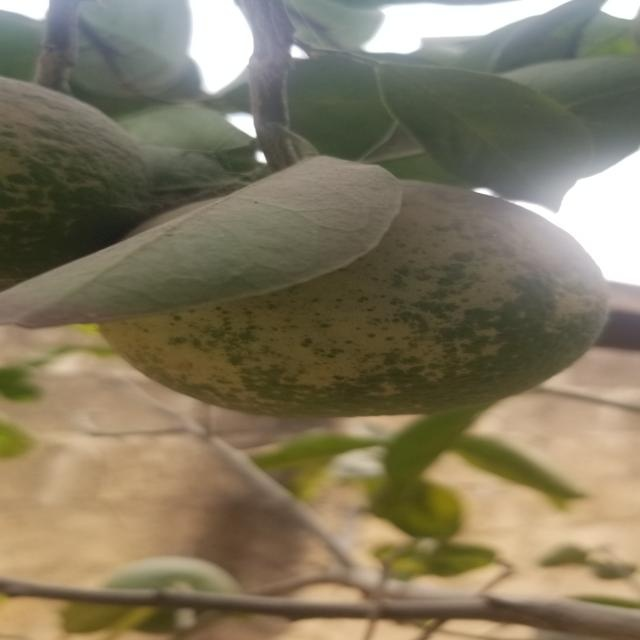agrume: (89, 178, 607, 417)
